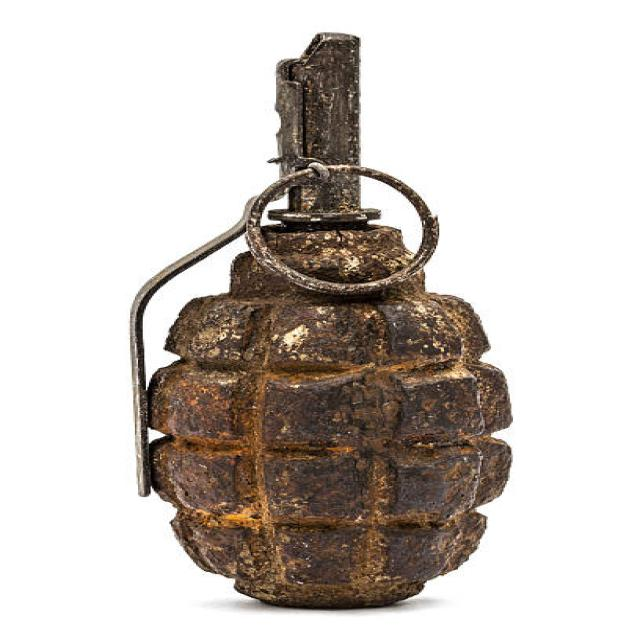grenade: (114, 28, 529, 619)
